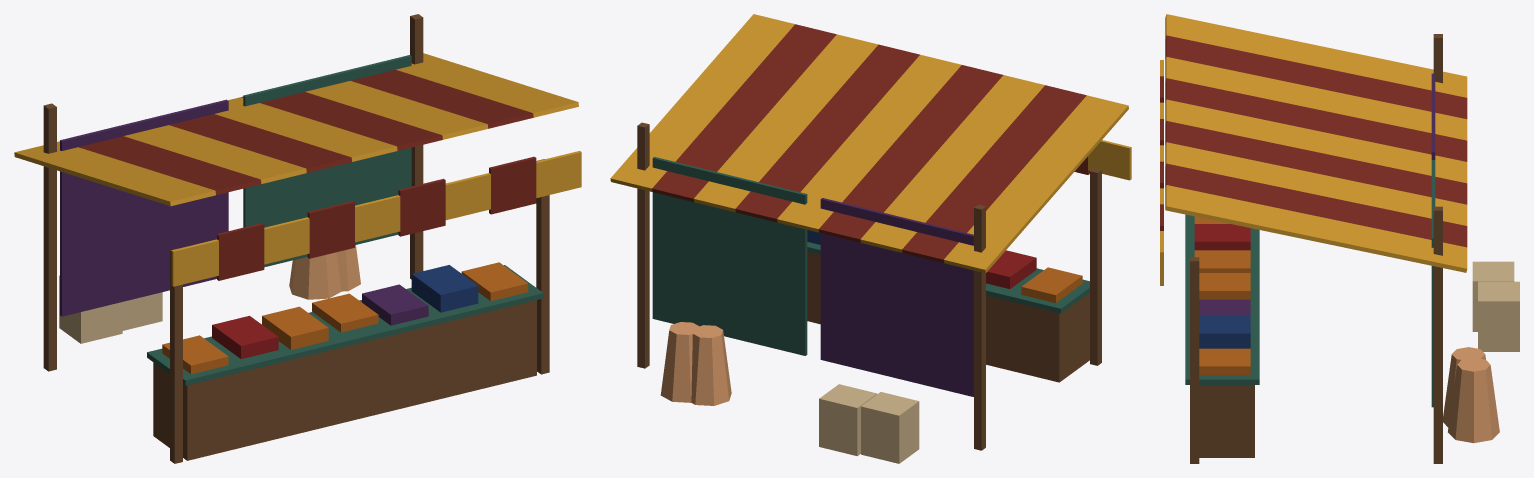
The model's file is stall_cloth.glb.
3 views of the same model, side by side, from view 1: azimuth 30°, elevation 25°; view 2: azimuth 150°, elevation 25°; view 3: azimuth 270°, elevation 25° (orthographic). The views are drawn at different scales.
Visible parts, largest first — view 1: Stall; view 2: Stall; view 3: Stall.
Boxes of the visible parts, x1=… form: Stall: x1=14, y1=14, x2=581, y2=463; Stall: x1=610, y1=14, x2=1131, y2=463; Stall: x1=1160, y1=14, x2=1519, y2=463.
Bounding box in the file's own units: 4.88 × 3.15 × 3.86.
